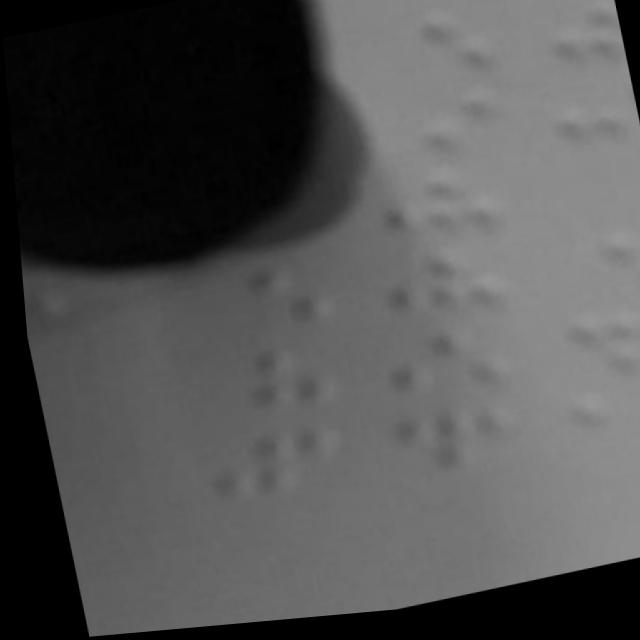braiile: (175, 250, 343, 357), (171, 335, 343, 438), (180, 419, 353, 519), (357, 160, 515, 266), (363, 239, 523, 343), (362, 399, 523, 499), (343, 5, 505, 103), (371, 322, 523, 426), (359, 86, 512, 179), (550, 303, 640, 401)
